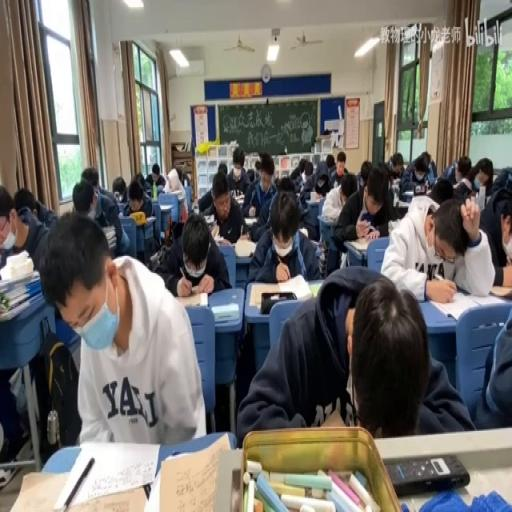calculator: (53, 440, 159, 509), (144, 431, 233, 509), (6, 469, 72, 509), (248, 273, 314, 309), (426, 287, 495, 320), (0, 288, 38, 320), (0, 266, 38, 291), (174, 287, 208, 307), (210, 301, 238, 323), (234, 236, 256, 258), (346, 236, 372, 253), (317, 214, 334, 240), (102, 225, 116, 250), (488, 284, 511, 298), (394, 202, 409, 219), (214, 233, 233, 245), (308, 282, 322, 297), (387, 219, 400, 235), (163, 188, 181, 199), (310, 189, 323, 202), (210, 222, 219, 240), (242, 214, 258, 224), (402, 188, 414, 200), (116, 200, 126, 214), (231, 192, 243, 202), (298, 226, 308, 238), (202, 213, 214, 222), (155, 184, 165, 194), (391, 179, 401, 189), (159, 204, 172, 210), (144, 216, 155, 223)
paper: (235, 266, 469, 444), (40, 212, 203, 448), (382, 192, 494, 300), (244, 186, 322, 286), (331, 164, 396, 262), (157, 208, 228, 297), (472, 293, 511, 428), (78, 174, 128, 254), (8, 186, 56, 269), (479, 176, 512, 282), (122, 176, 154, 248), (195, 162, 232, 215), (399, 150, 436, 196), (224, 148, 250, 196), (441, 153, 472, 185), (307, 158, 333, 196), (428, 176, 454, 205), (466, 161, 490, 192), (384, 152, 403, 186), (146, 162, 166, 189), (290, 159, 306, 191), (357, 159, 372, 191), (334, 151, 348, 183), (80, 165, 99, 188), (174, 164, 190, 186), (94, 189, 104, 219), (134, 170, 146, 194), (276, 176, 294, 192), (340, 184, 354, 204), (427, 158, 437, 178), (302, 164, 312, 179), (325, 154, 334, 170), (245, 168, 254, 183), (254, 158, 262, 173), (217, 162, 226, 175), (397, 163, 404, 175)
person: (386, 452, 470, 494), (230, 468, 242, 510), (241, 226, 250, 240)
